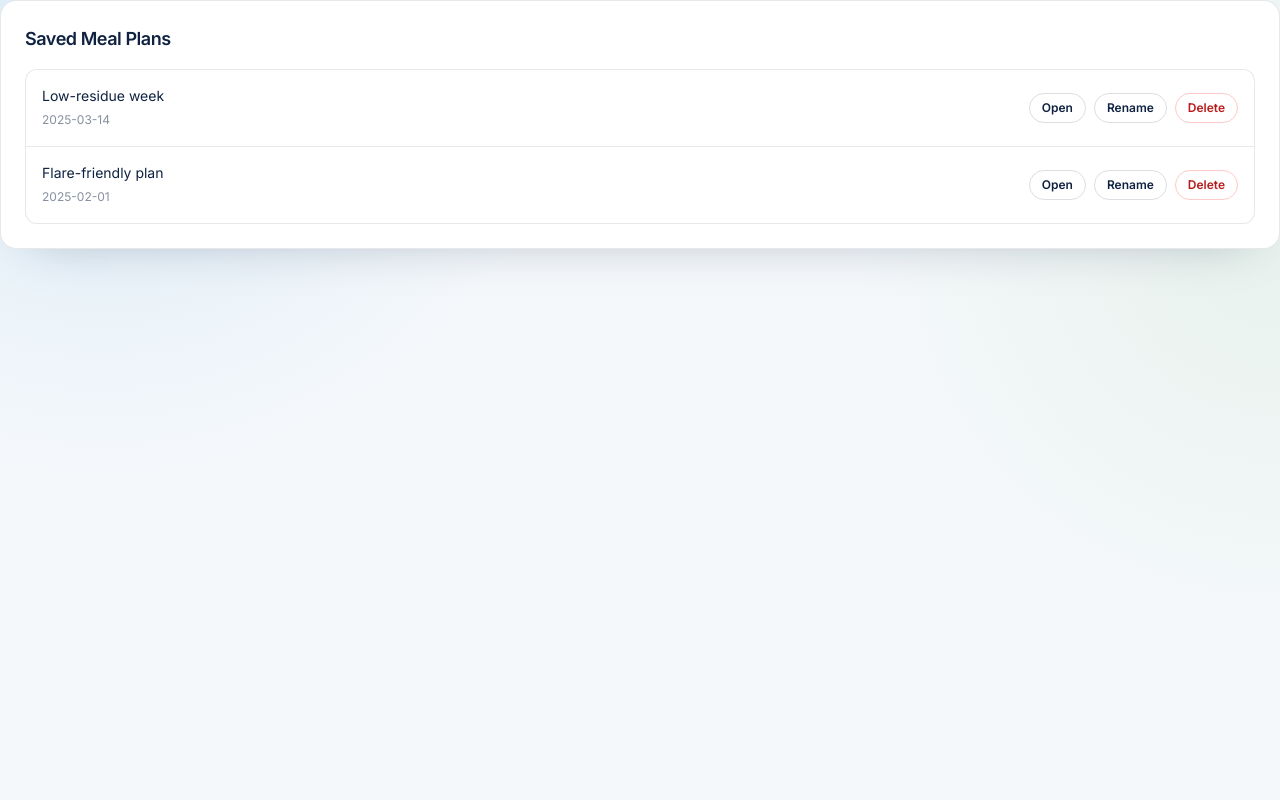
Test: SavedPlansList › reopens a record through the shared plan layout, preserving stored order
The width and height of the screenshot is (1280, 800).
What coordinates should you click on to do the following:
click the button with aria-label "Open Low-residue week"
I would click on:
 (1057, 108)
Its box is left=1029, top=93, right=1086, bottom=123.
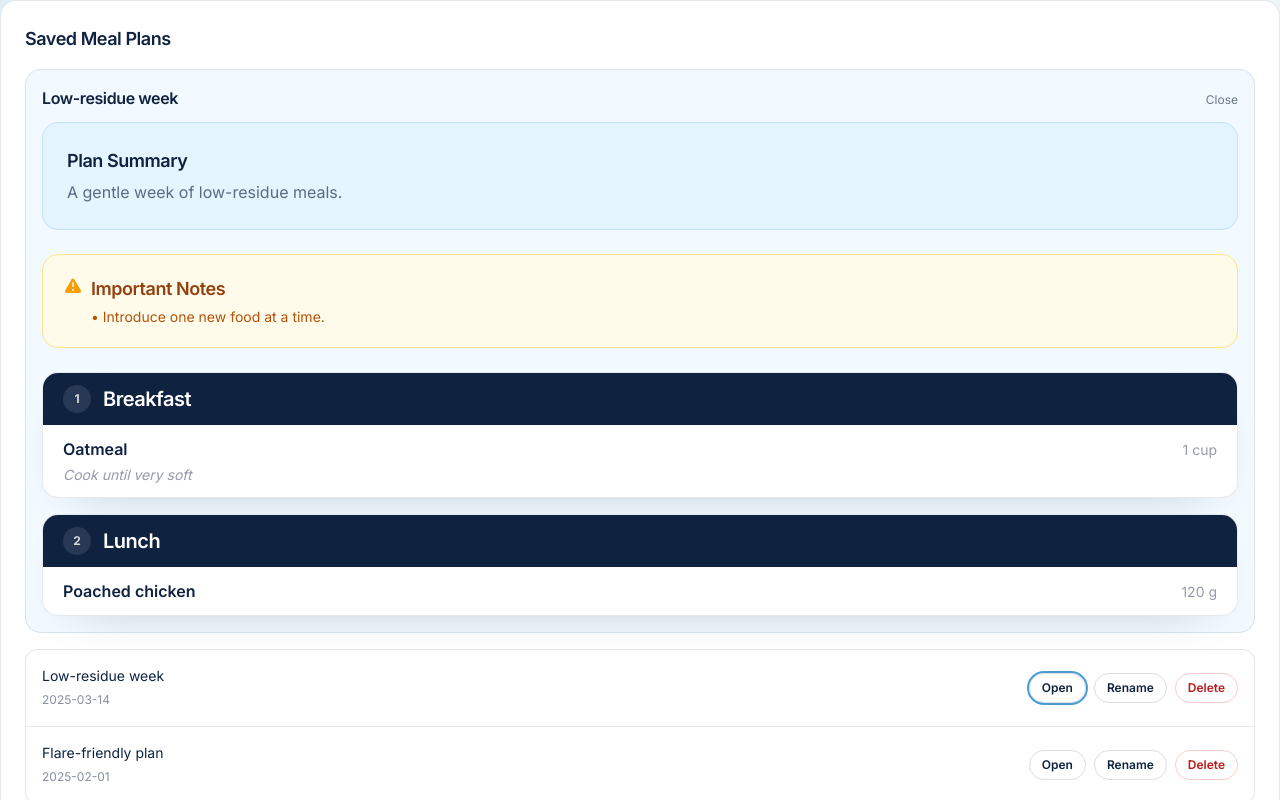
Result: the text "A gentle week of low-residue meals." is shown at left=67, top=182, right=342, bottom=202
Result: the heading "Breakfast" is shown at left=103, top=385, right=191, bottom=413
Result: the text "Oatmeal" is shown at left=63, top=437, right=128, bottom=461
